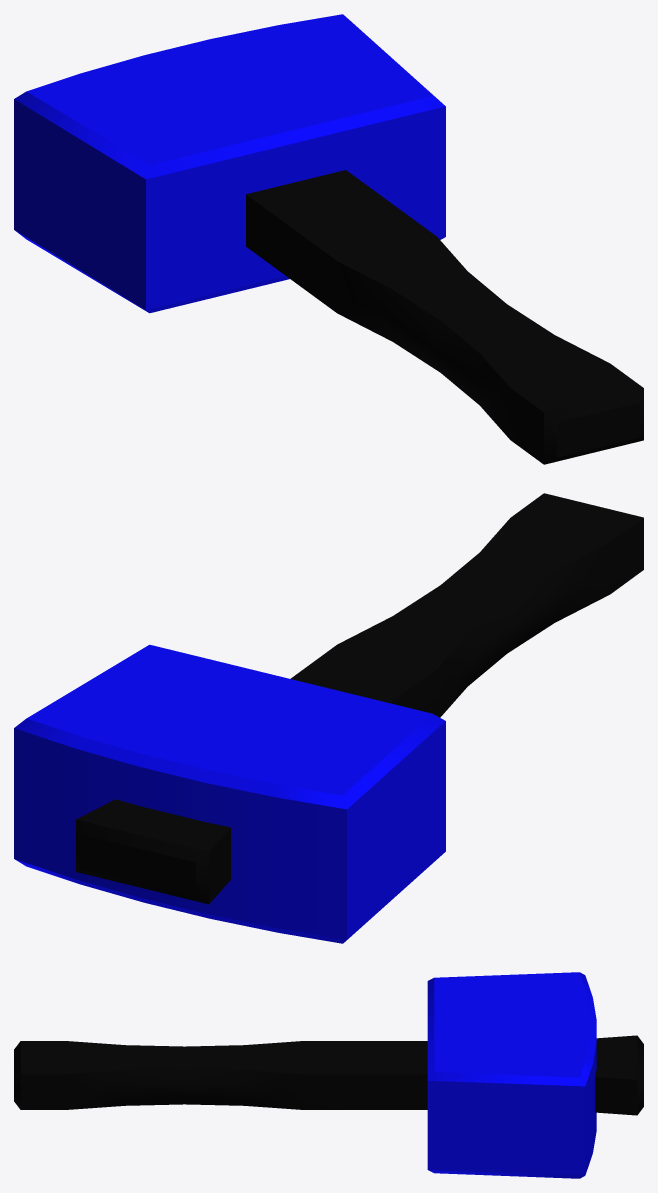
Rendered from mallet_02_origin_gt_5.dae.
3 views of the same model, one above another, from view 1: azimuth 30°, elevation 25°; view 2: azimuth 150°, elevation 25°; view 3: azimuth 270°, elevation 25° (orthographic). The views are drawn at different scales.
Parts seen in each view (by area): view 1: Head, Handle; view 2: Head, Handle, Component_3; view 3: Head, Handle, Component_3.
Boxes of the visible parts, bbox=[...] form: Head: bbox=[14, 14, 445, 313]; Handle: bbox=[246, 170, 643, 464]; Head: bbox=[14, 644, 445, 943]; Handle: bbox=[290, 493, 643, 717]; Component_3: bbox=[76, 799, 230, 904]; Head: bbox=[427, 972, 596, 1178]; Handle: bbox=[14, 1041, 427, 1109]; Component_3: bbox=[595, 1035, 643, 1115].
Size of the model in its own units: 5 by 11.99 by 2.13.
